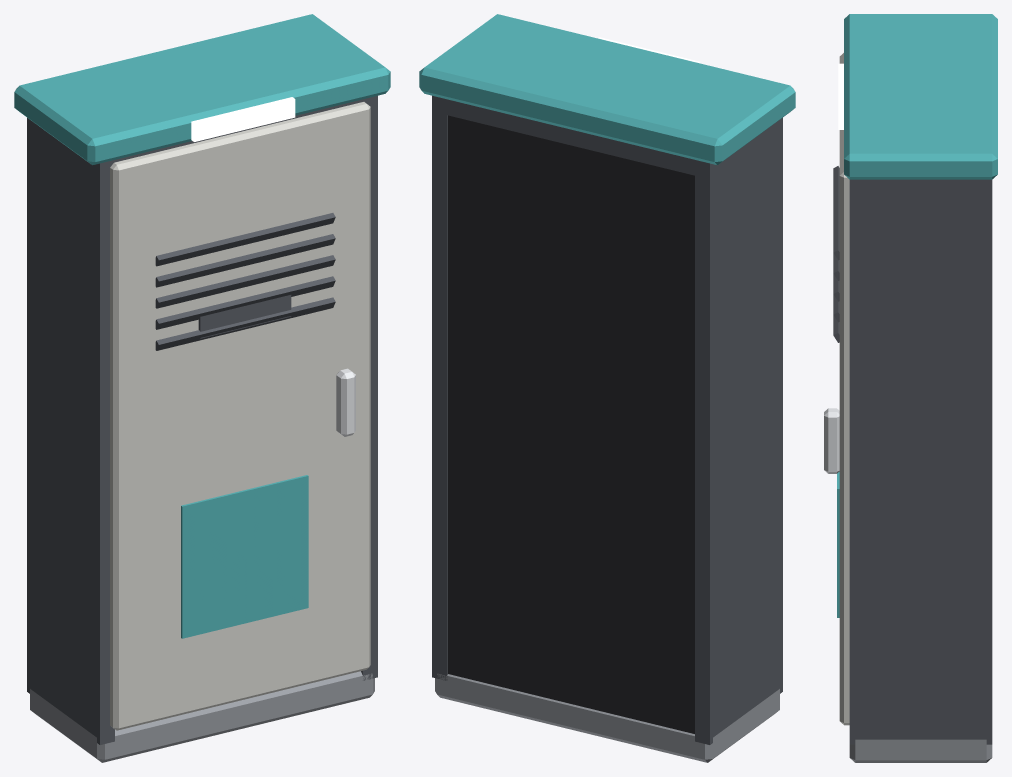
File: locker.glb
3 renders of one model, left to right at view 1: azimuth 30°, elevation 25°; view 2: azimuth 150°, elevation 25°; view 3: azimuth 270°, elevation 25°, orthographic. The views are drawn at different scales.
Visible parts, largest first — view 1: door, locker; view 2: locker; view 3: locker, door.
Part boxes in pixels (x1,y1,x2,y2): door: (110, 102, 370, 730); locker: (14, 14, 390, 762); locker: (419, 14, 795, 762); locker: (838, 14, 997, 762); door: (824, 53, 849, 725).
Size of the model in its own units: 1.2 by 2.38 by 0.61.
